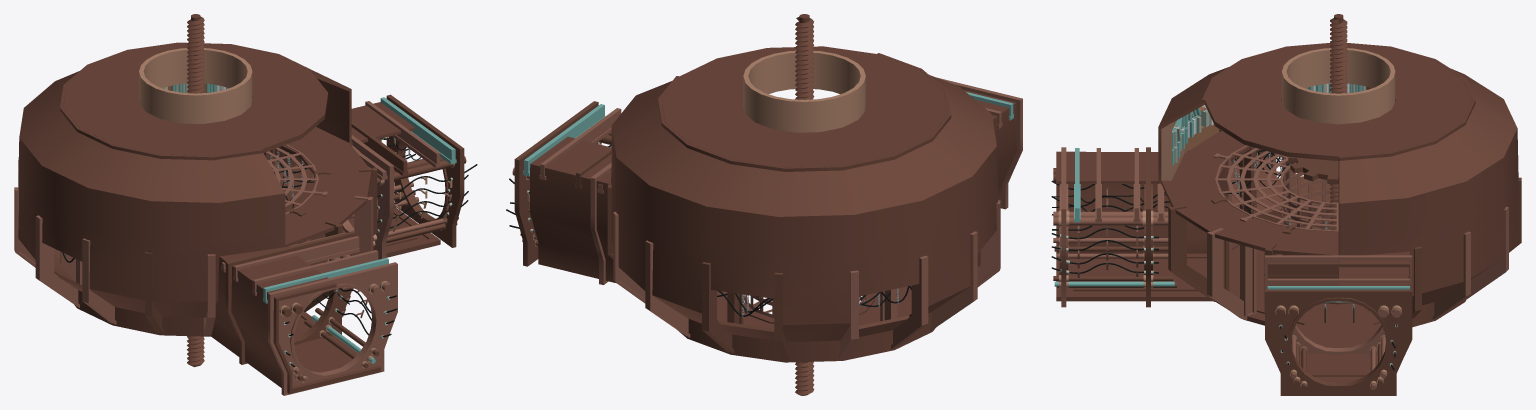
Rendered from SteamPank_Draft.fbx.
3 views of the same model, side by side, from view 1: azimuth 30°, elevation 25°; view 2: azimuth 150°, elevation 25°; view 3: azimuth 270°, elevation 25° (orthographic). The views are drawn at different scales.
Visible parts, largest first — view 1: polySurface993, polySurface71, polySurface992, polySurface1378, polySurface70, polySurface1379, polySurface1376, polySurface1380, polySurface1108, polySurface1377, polySurface92, polySurface1 (+14 smaller); view 2: polySurface993, polySurface71, polySurface992, polySurface1376, polySurface1108, polySurface1002, polySurface999, polySurface1379, polySurface92, polySurface998, polySurface1378, polySurface1320 (+6 smaller); view 3: polySurface993, polySurface71, polySurface1379, polySurface1376, polySurface70, polySurface992, polySurface994, polySurface995, polySurface1377, polySurface1199, polySurface1318, polySurface1108 (+21 smaller).
Boxes of the visible parts, bbox=[...] form: polySurface993: bbox=[18, 42, 414, 393]; polySurface71: bbox=[63, 44, 328, 155]; polySurface992: bbox=[139, 48, 252, 123]; polySurface1378: bbox=[268, 262, 397, 395]; polySurface70: bbox=[279, 127, 371, 247]; polySurface1379: bbox=[292, 207, 440, 393]; polySurface1376: bbox=[386, 94, 464, 247]; polySurface1380: bbox=[225, 231, 355, 364]; polySurface1108: bbox=[187, 17, 204, 367]; polySurface1377: bbox=[342, 135, 393, 259]; polySurface92: bbox=[35, 215, 82, 307]; polySurface1: bbox=[233, 236, 359, 281]; polySurface993: bbox=[530, 53, 1016, 362]; polySurface71: bbox=[661, 46, 947, 167]; polySurface992: bbox=[743, 50, 865, 132]; polySurface1376: bbox=[514, 101, 598, 266]; polySurface1108: bbox=[795, 17, 814, 395]; polySurface1002: bbox=[880, 255, 928, 349]; polySurface999: bbox=[702, 262, 743, 353]; polySurface1379: bbox=[717, 285, 911, 328]; polySurface92: bbox=[930, 231, 977, 331]; polySurface998: bbox=[645, 240, 690, 337]; polySurface1378: bbox=[937, 77, 1022, 209]; polySurface1320: bbox=[523, 104, 604, 176]; polySurface993: bbox=[1056, 43, 1518, 327]; polySurface71: bbox=[1205, 44, 1472, 160]; polySurface1379: bbox=[1056, 220, 1380, 382]; polySurface1376: bbox=[1265, 289, 1412, 395]; polySurface70: bbox=[1161, 131, 1338, 255]; polySurface992: bbox=[1282, 48, 1395, 124]; polySurface994: bbox=[1215, 145, 1338, 255]; polySurface995: bbox=[1207, 214, 1256, 320]; polySurface1377: bbox=[1265, 255, 1412, 355]; polySurface1199: bbox=[1168, 197, 1229, 301]; polySurface1318: bbox=[1267, 262, 1409, 278]; polySurface1108: bbox=[1330, 18, 1347, 230].
Size of the model in its own units: 1547 by 1531 by 1262.
